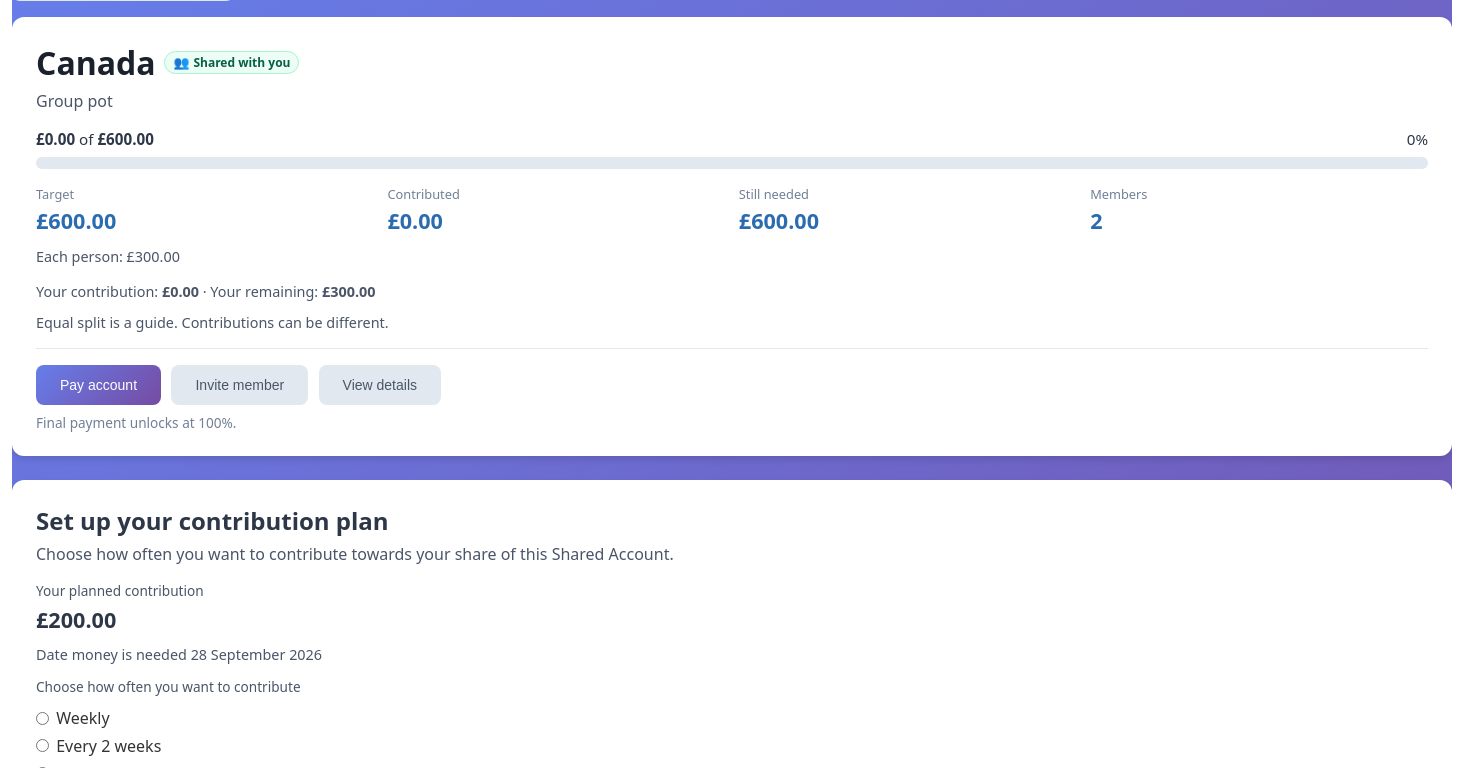
it: SharedAccountDetail invited member contribution plan › opens the setup form after accept and saves an agreed weekly plan
Click the radio button labelled "Weekly".
click(42, 718)  # box [36, 712, 49, 725]
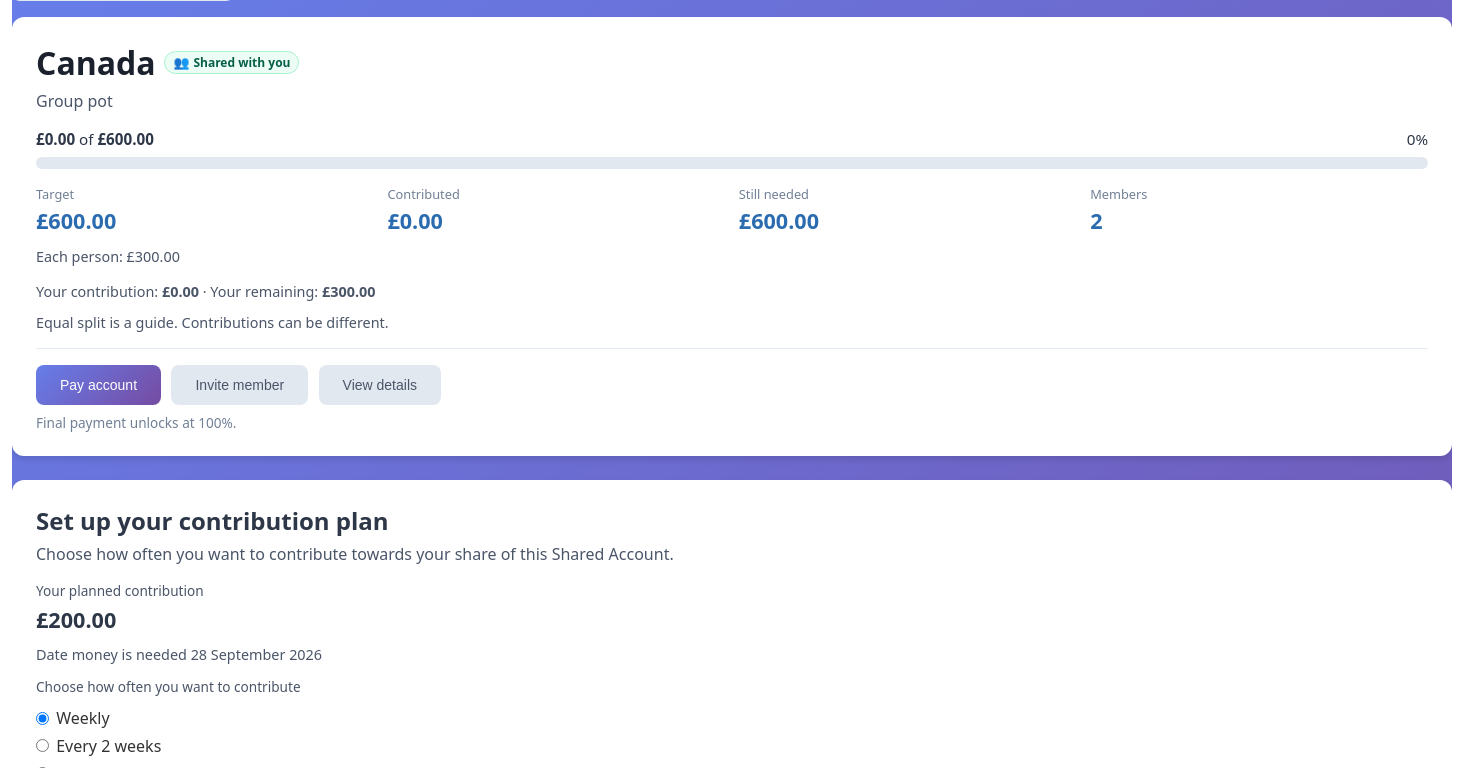
Click the radio button labelled "Every 2 weeks".
click(42, 746)  # box [36, 739, 49, 752]
(page scrolled)
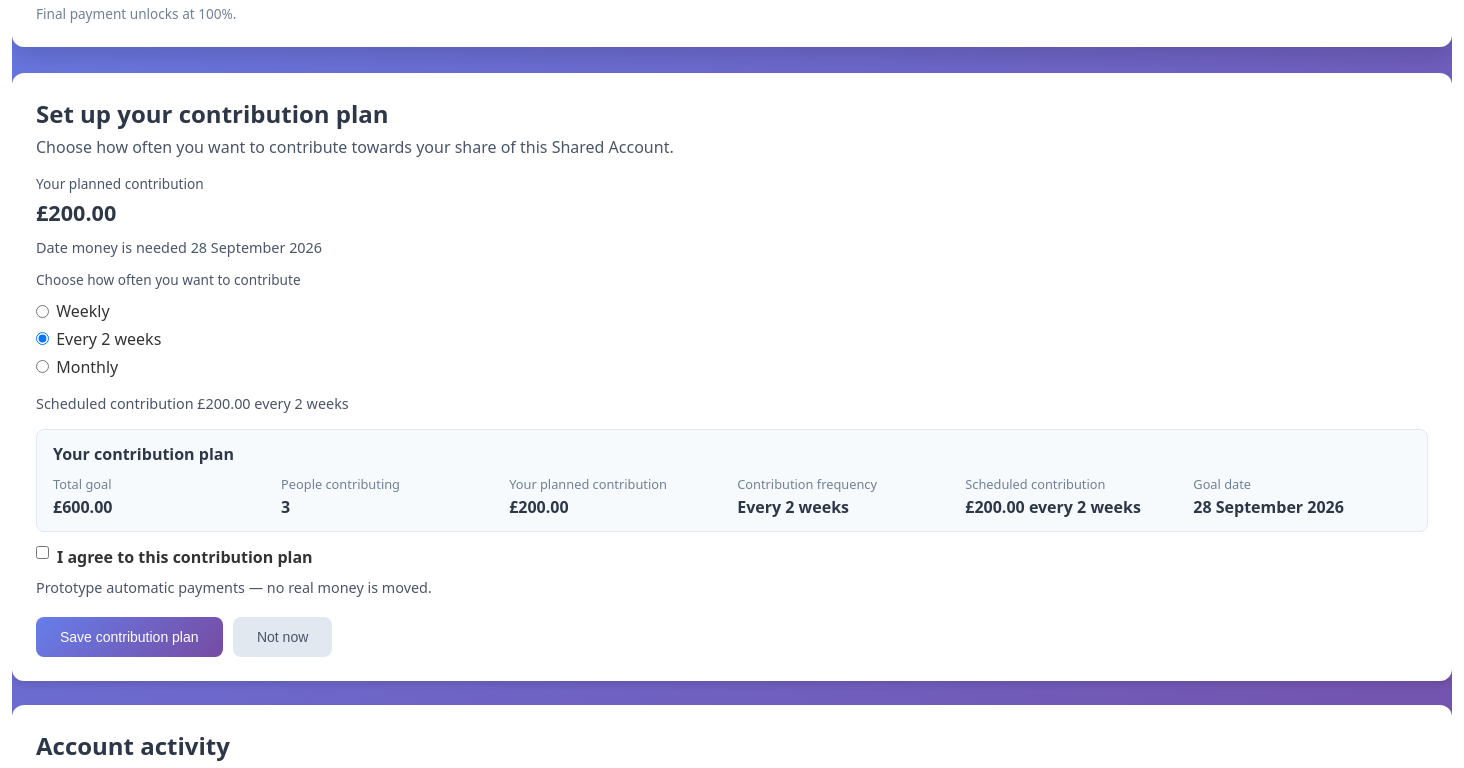
Click the radio button labelled "Monthly".
click(42, 366)  # box [36, 360, 49, 373]
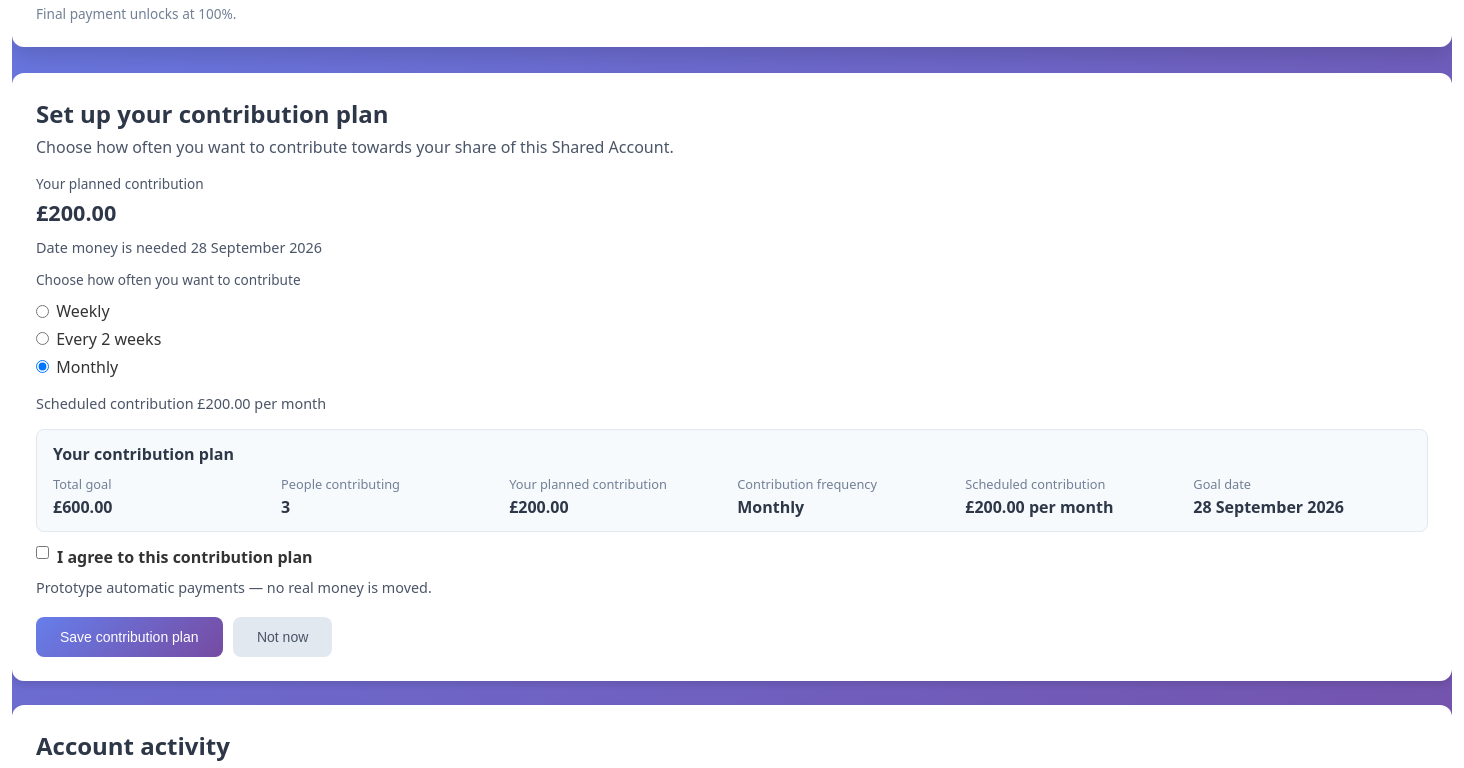
Click the radio button labelled "Weekly".
click(42, 311)  # box [36, 305, 49, 318]
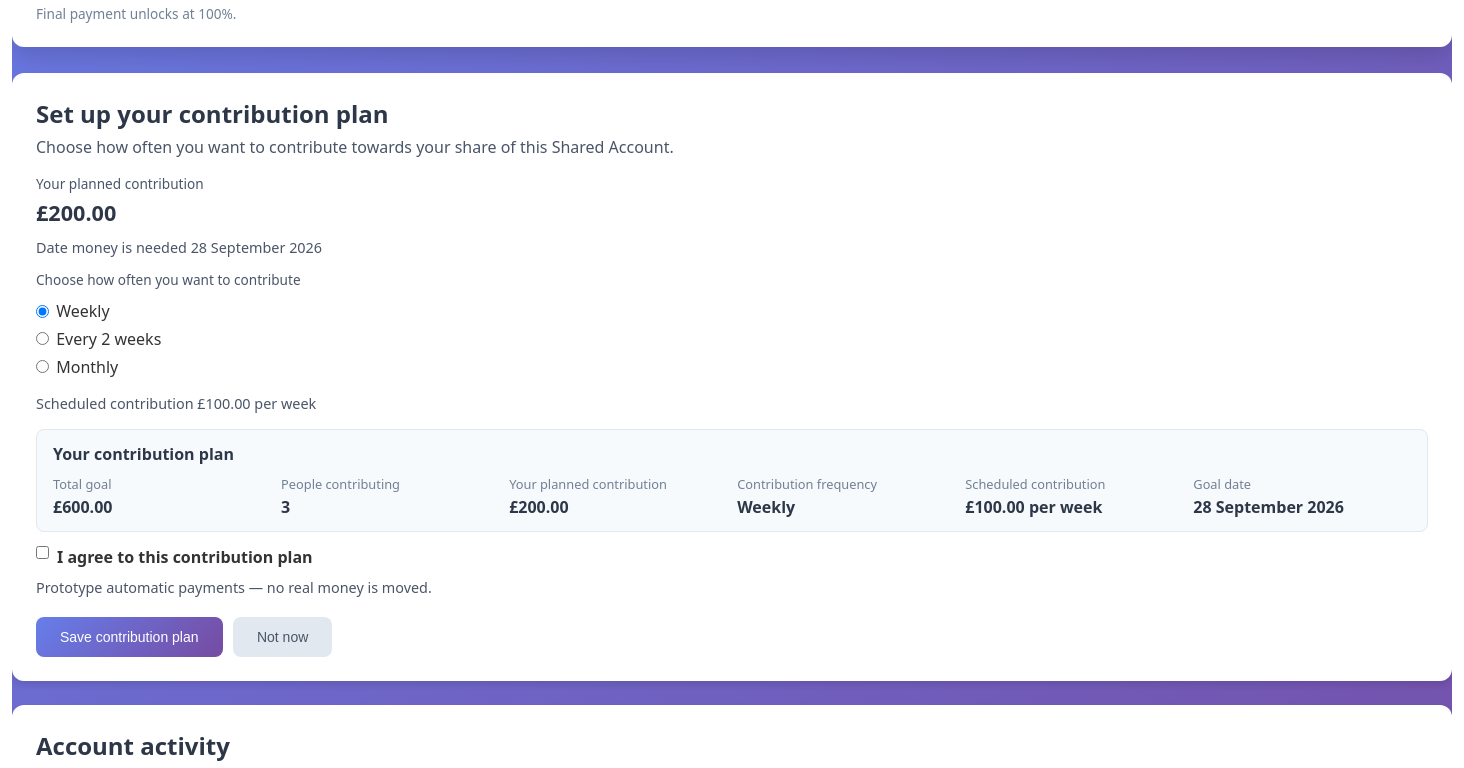
Click the checkbox labelled "I agree to this contribution plan".
click(42, 553)  # box [36, 546, 49, 559]
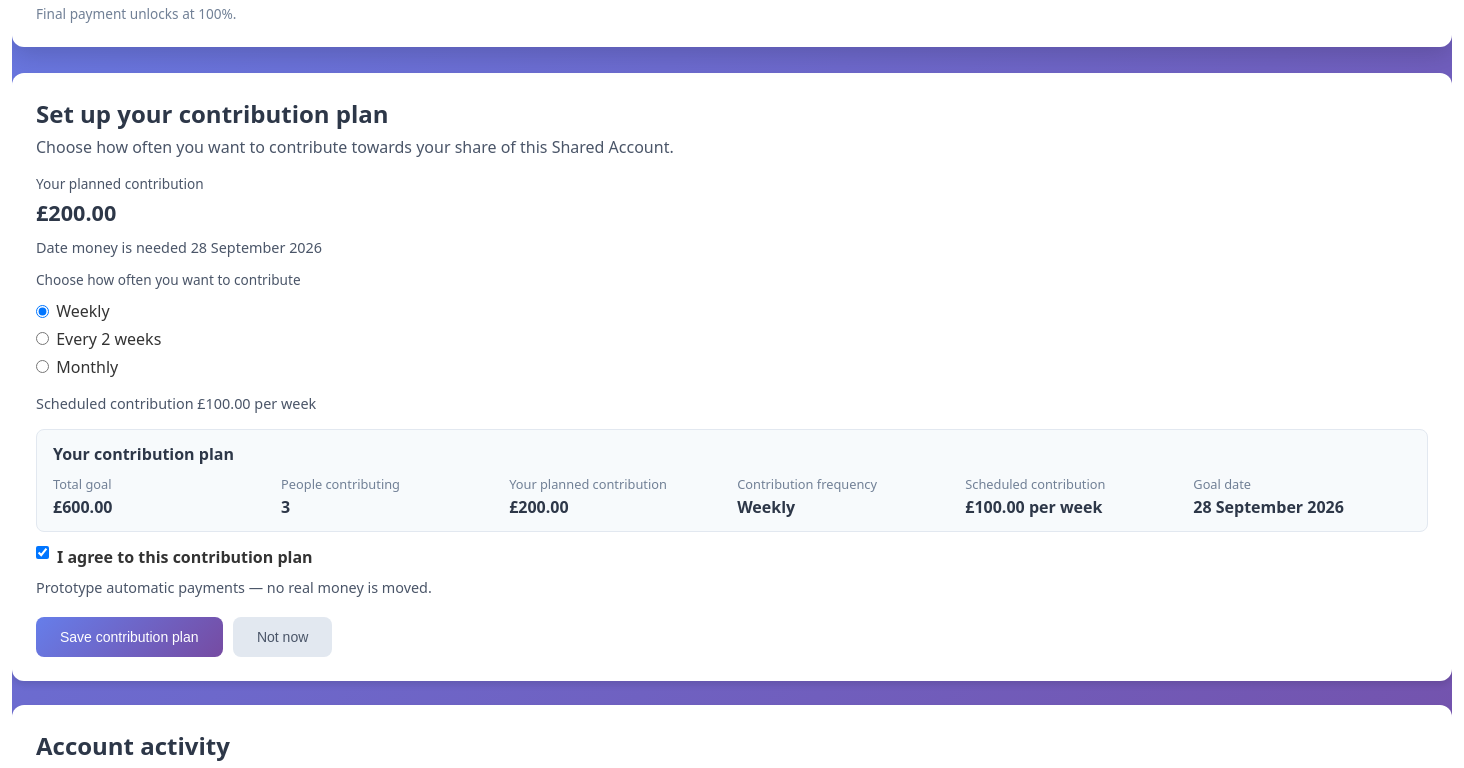
Click the button "Save contribution plan".
click(129, 638)  # box [36, 618, 222, 658]
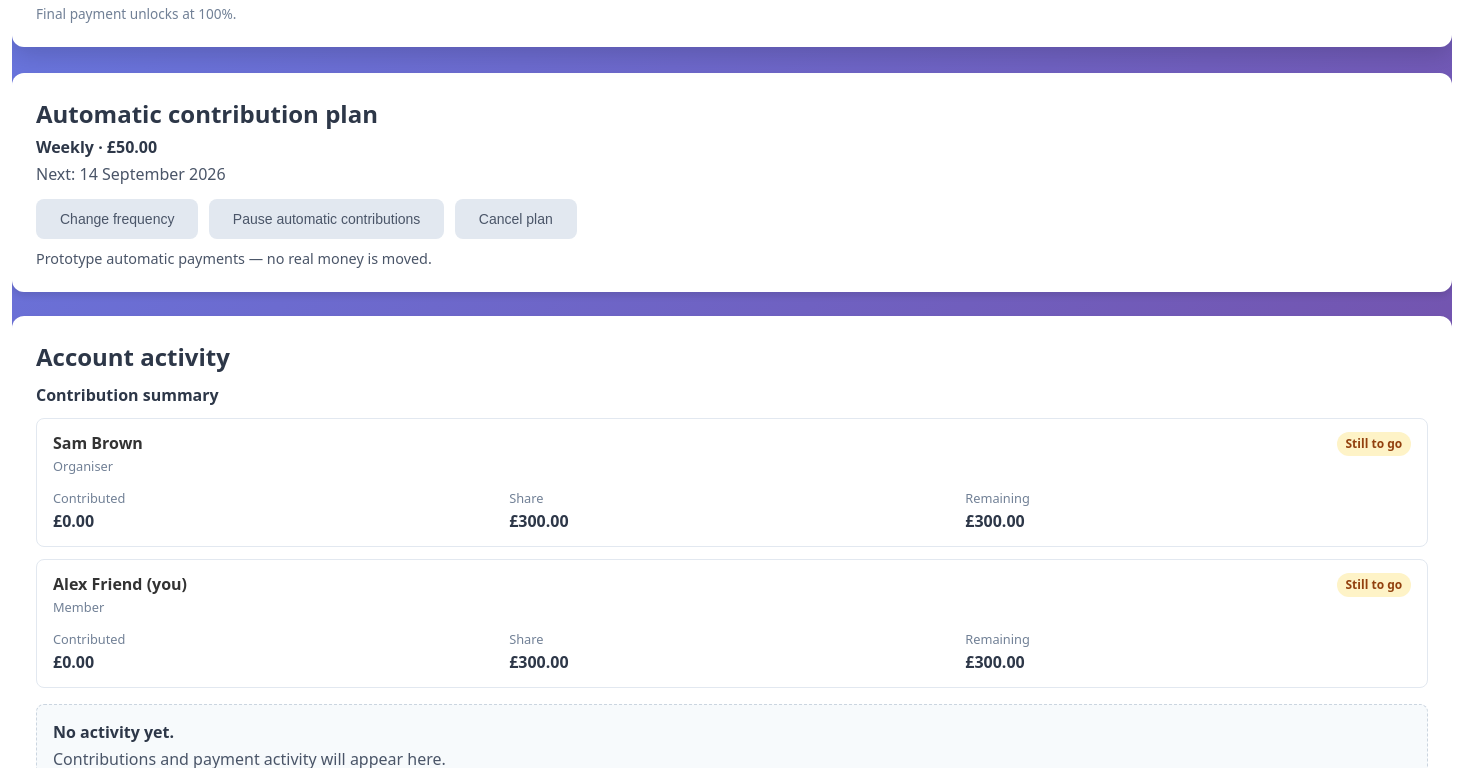
Now the element with test id "member-contribution-plan-summary" is shown, box [12, 73, 1452, 292]
Now the text "Weekly · £50.00" is shown, box [36, 136, 157, 158]
Now the heading "Set up your contribution plan" is gone
